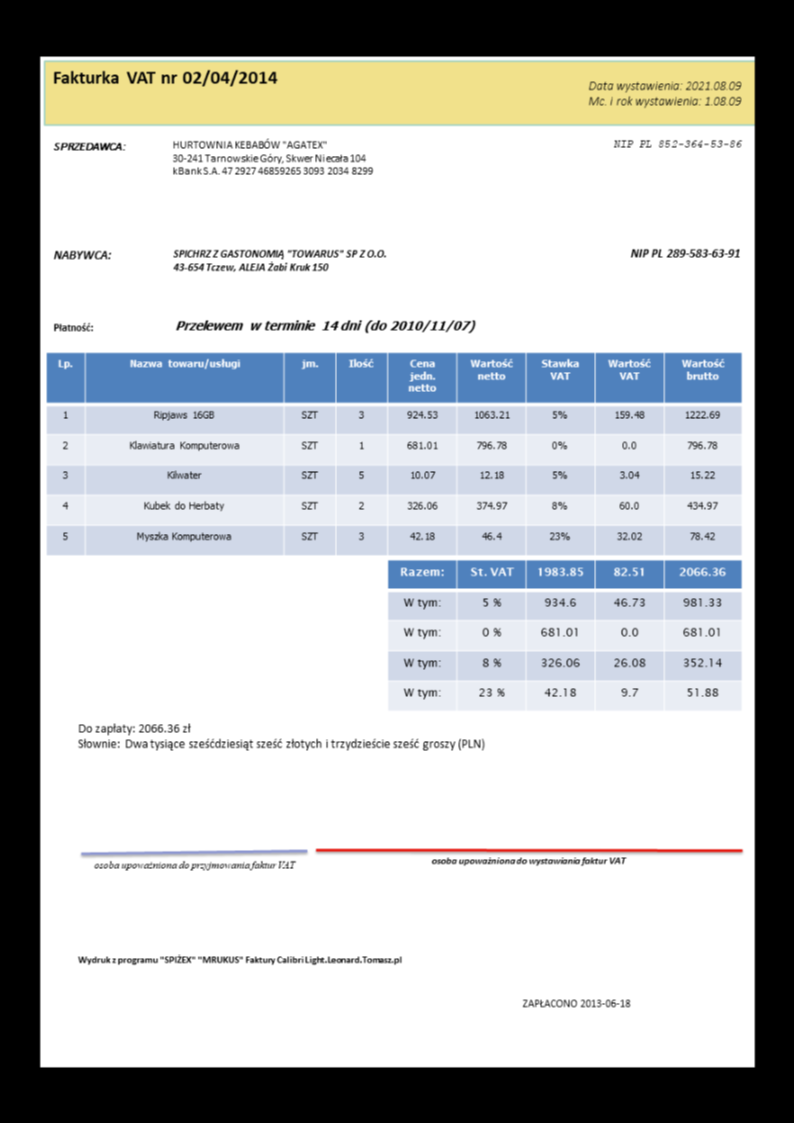Table: (44, 350, 742, 556), (386, 557, 742, 711)
TextBox: (75, 720, 485, 753), (169, 137, 374, 176), (170, 245, 387, 273), (172, 317, 477, 335), (586, 78, 744, 108), (51, 68, 279, 88), (76, 953, 404, 966), (91, 858, 297, 872), (430, 854, 626, 868), (609, 135, 744, 151), (628, 246, 743, 260), (519, 996, 634, 1008), (51, 138, 126, 152), (50, 246, 114, 261), (50, 320, 95, 332)
